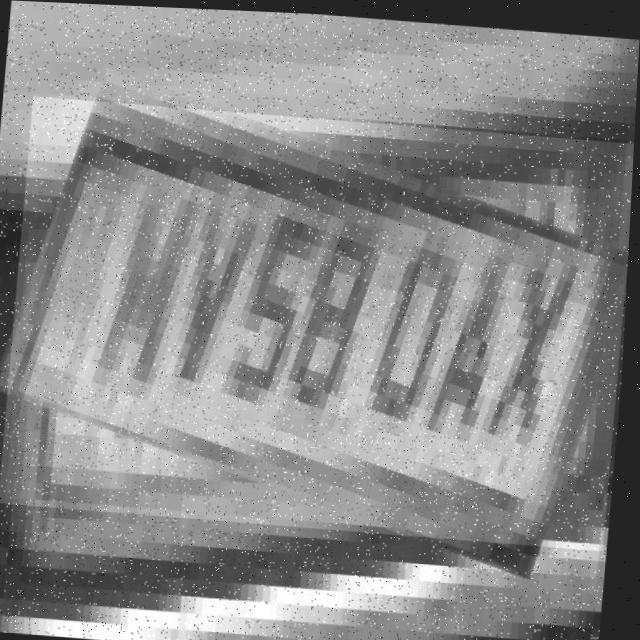LicensePlate: (2, 95, 636, 545)
